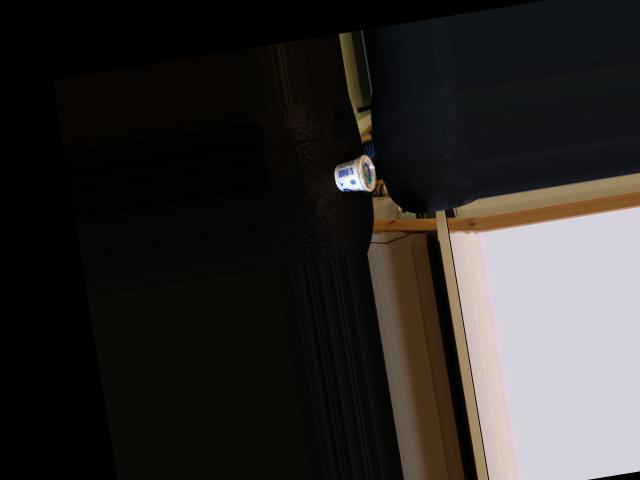cotage: (327, 154, 379, 196)
